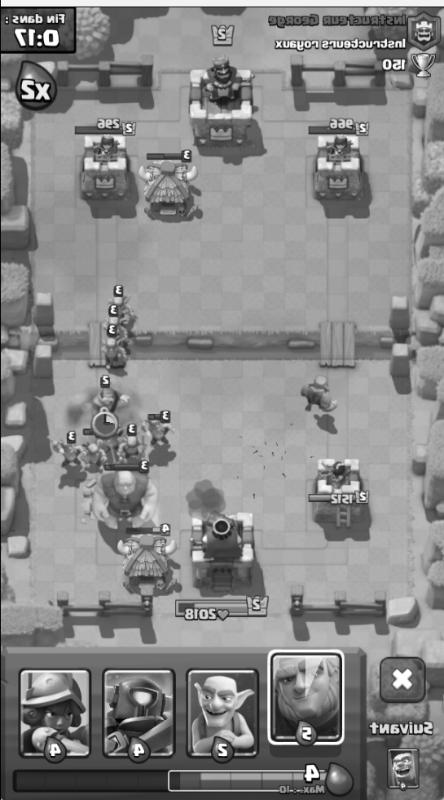chevalier: (86, 381, 130, 426)
geant: (91, 459, 157, 536)
gobelin_lances: (147, 410, 173, 457), (51, 432, 79, 475), (101, 316, 131, 349), (81, 441, 106, 473), (99, 420, 121, 456), (109, 288, 136, 317), (102, 341, 124, 375), (122, 432, 142, 462)
